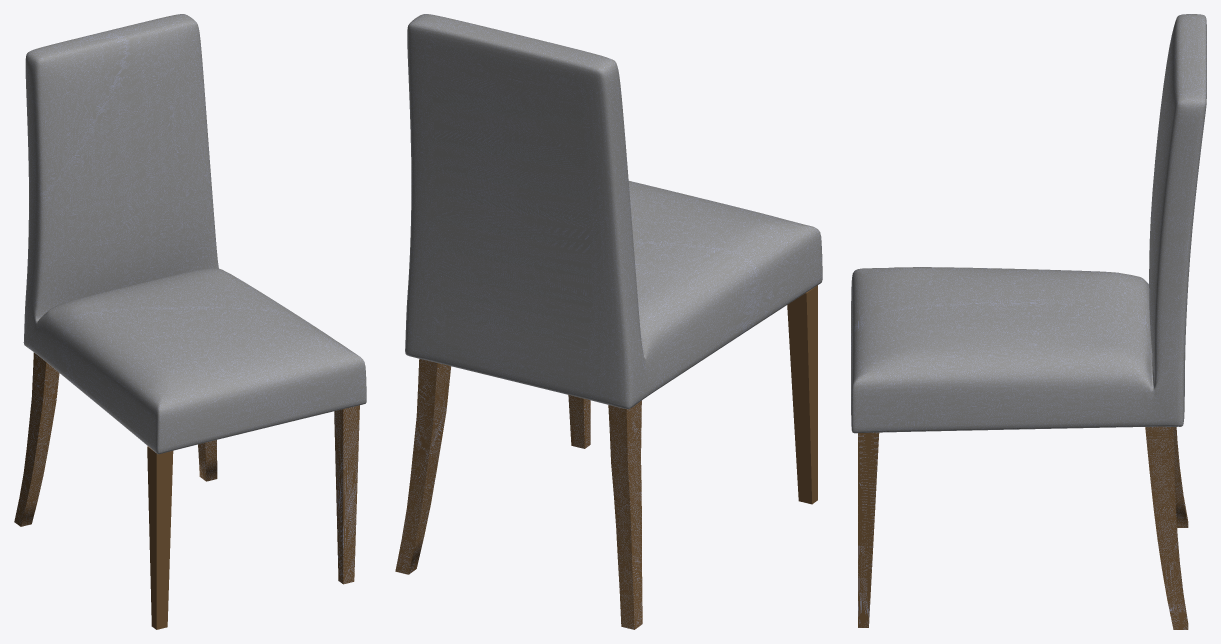
3 renders of one model, left to right at view 1: azimuth 30°, elevation 25°; view 2: azimuth 150°, elevation 25°; view 3: azimuth 270°, elevation 25°, orthographic. The views are drawn at different scales.
Parts seen in each view (by area): view 1: obj_05, obj_03 (×2), obj_01, obj_02; view 2: obj_05, obj_03 (×2), obj_01, obj_02; view 3: obj_05, obj_03 (×2), obj_02.
Boxes of the visible parts, x1=… form: obj_05: x1=23, y1=14, x2=366, y2=454; obj_03 (×2): x1=14, y1=352, x2=217, y2=526; obj_01: x1=147, y1=446, x2=173, y2=629; obj_02: x1=334, y1=405, x2=359, y2=584; obj_05: x1=405, y1=14, x2=822, y2=409; obj_03 (×2): x1=395, y1=359, x2=642, y2=629; obj_01: x1=787, y1=285, x2=817, y2=504; obj_02: x1=568, y1=395, x2=590, y2=448; obj_05: x1=851, y1=14, x2=1206, y2=433; obj_03 (×2): x1=1145, y1=426, x2=1188, y2=629; obj_02: x1=858, y1=432, x2=879, y2=627.
Size of the model in its own units: 23.23 by 30.28 by 48.95.
